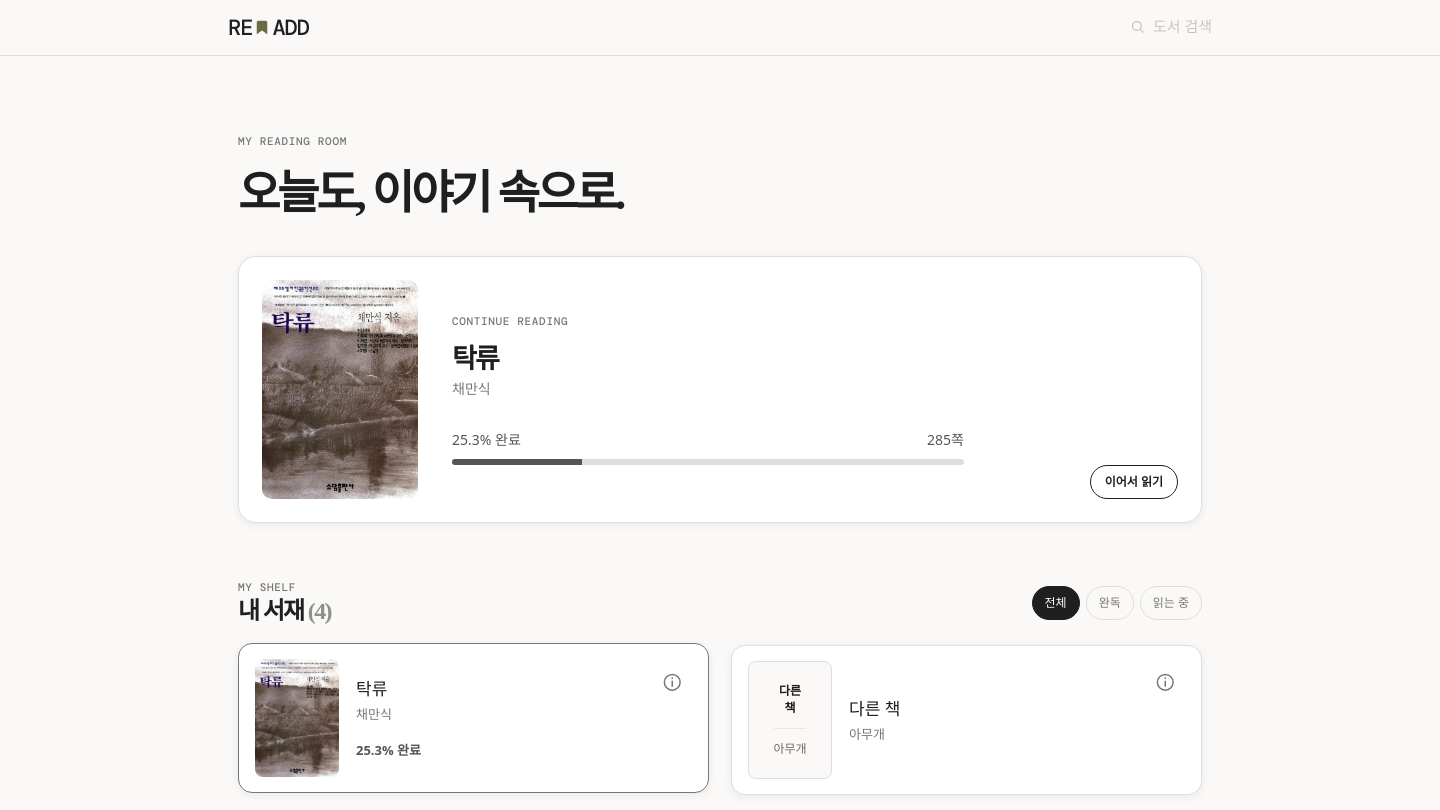
it: Dashboard › 완독 필터는 데이터가 없어 비지만, 백지 대신 그 이유를 말한다
Check: the heading "탁류" below "CONTINUE READING" is shown, box [452,344,498,374]
Click the button "완독" at (1110, 603), box [1086,586,1134,620]
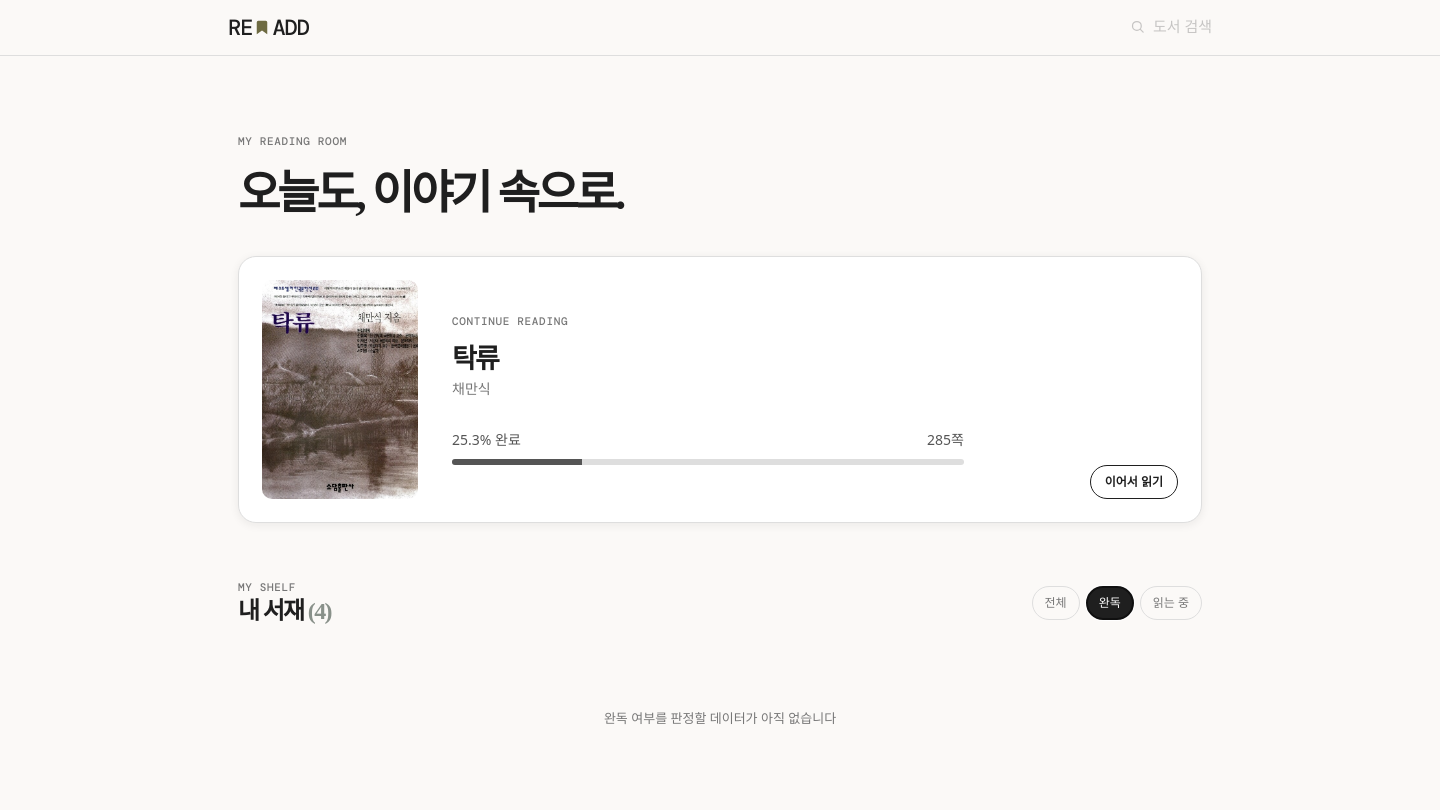
Check: the text "완독 여부를 판정할 데이터가 아직 없습니다" is shown, box [604,709,836,727]
